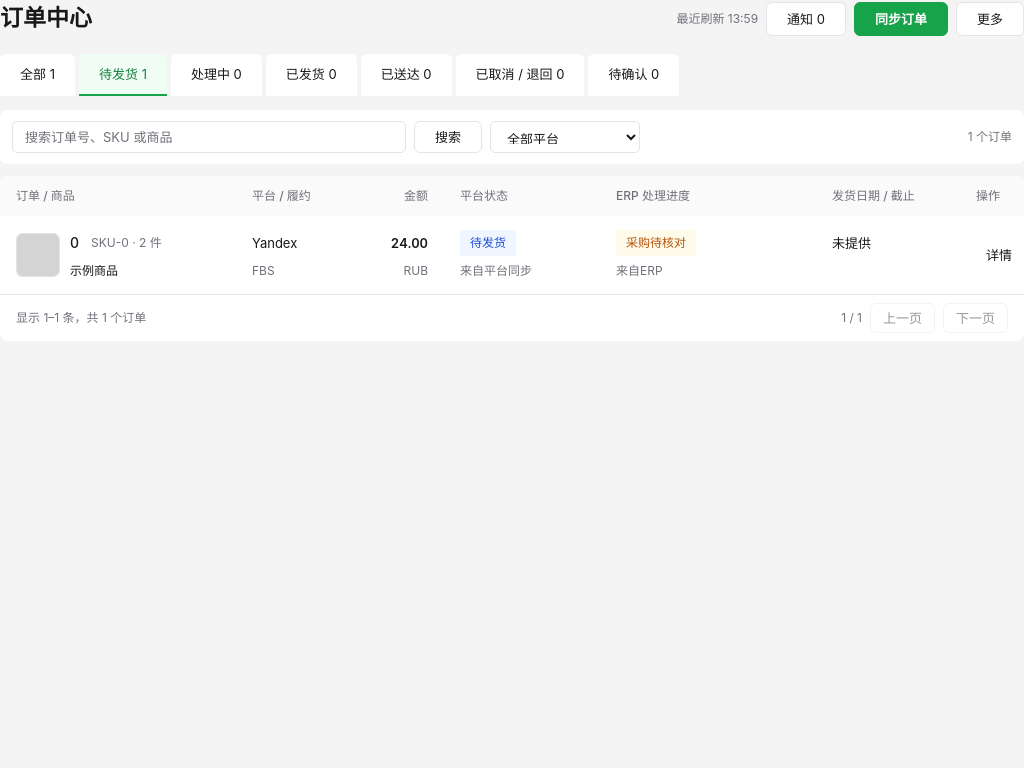
紧凑订单列表 › Yandex PROCESSING / STARTED 在列表与详情区分平台主状态和附注
The width and height of the screenshot is (1024, 768).
expect the text with class "order-badge" reads "待发货": met, box [470,235,506,250]
Click the link with aria-label "查看订单 0". click: (999, 255)
box: [986,247,1012,263]
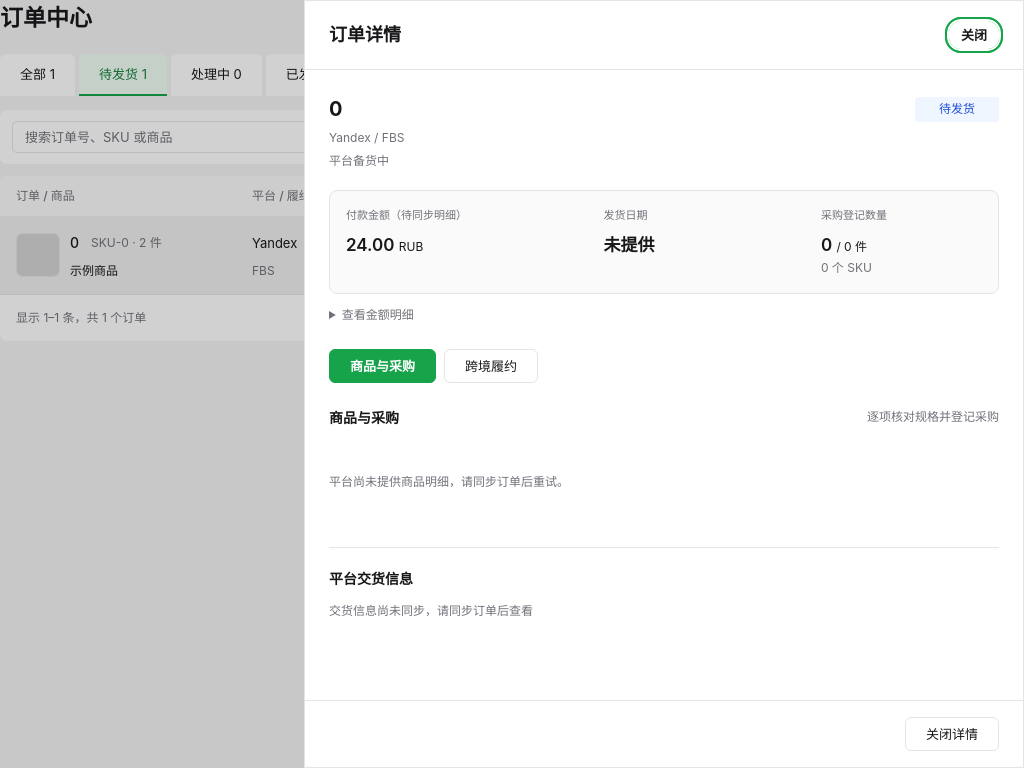
expect the text "平台备货中" is not shown: met
expect the text with class "order-badge" reads "待发货": met, box [939,101,975,116]
expect the dialog shows "平台备货中": met, box [329,153,389,168]
